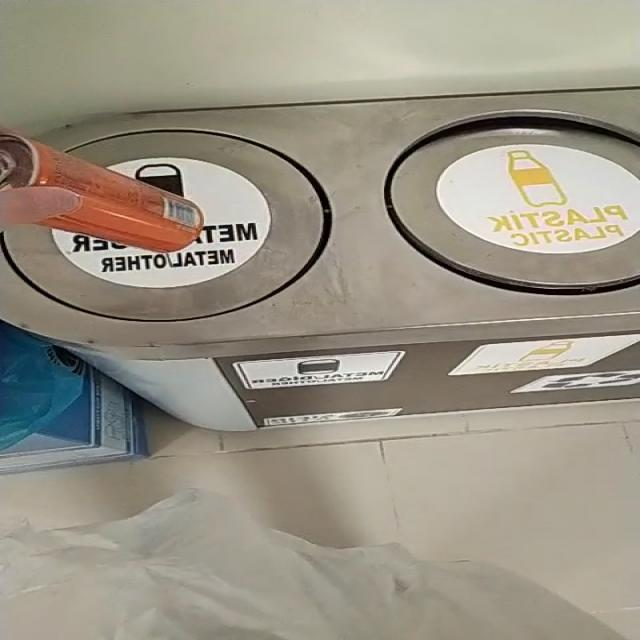bin: (0, 90, 640, 431)
metal: (0, 132, 203, 252)
